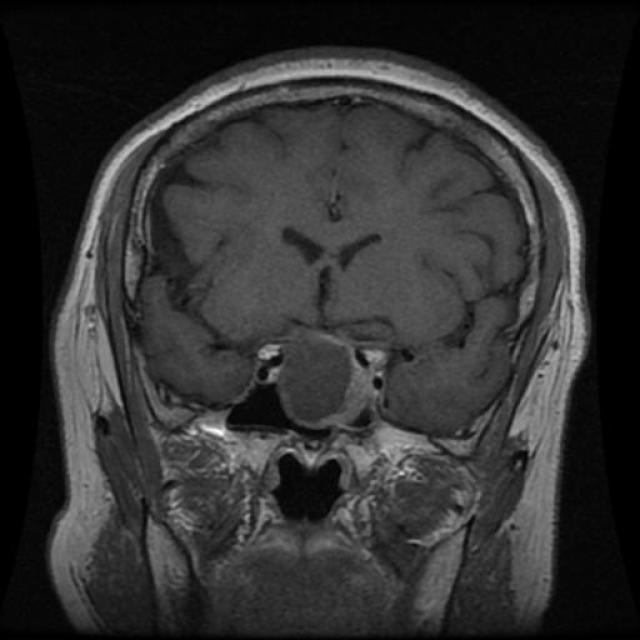pituitary: (236, 308, 384, 434)
